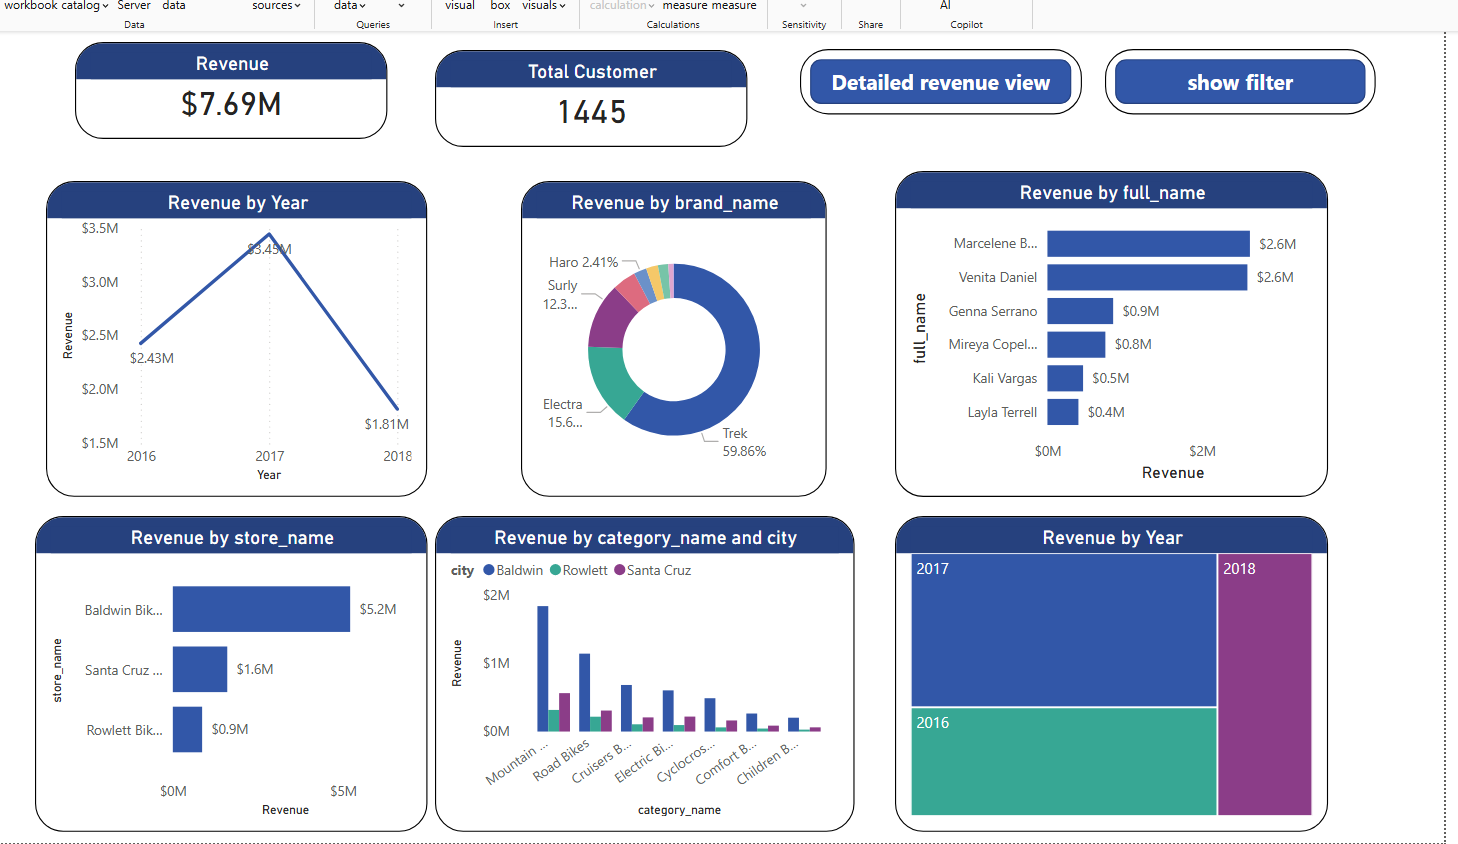

What the dashboard file says about the page in this screenshot:
{"tool":"powerbi","page":{"name":"Page 1","canvas":[1280,720],"ordinal":0},"visuals":[{"type":"barChart","fields":{"Category":["stores.store_name"],"Y":["Table.Revenue"]},"box":[31.1,429.9,348.2,280.1],"z":0},{"type":"clusteredColumnChart","fields":{"Category":["categories.category_name"],"Y":["Table.Revenue"],"Series":["stores.city"]},"box":[386.1,429.9,371.6,280.1],"z":1000},{"type":"lineChart","fields":{"Y":["Table.Revenue"],"Category":["orders.order_date.Variation.Date Hierarchy.Year","orders.order_date.Variation.Date Hierarchy.Quarter","orders.order_date.Variation.Date Hierarchy.Month","orders.order_date.Variation.Date Hierarchy.Day"]},"box":[40.9,133.3,338.5,280.1],"z":2000},{"type":"shape","box":[979.5,16.1,240.2,57.7],"z":3000},{"type":"donutChart","fields":{"Category":["brands.brand_name"],"Y":["Table.Revenue"]},"box":[462,133.3,271.4,280.1],"z":4000},{"type":"card","title":"Revenue","fields":{"Values":["Table.Revenue"]},"box":[66.1,9.7,277.2,85.6],"z":5000},{"type":"card","title":"Total Customer","fields":{"Values":["Table.total_customer"]},"box":[386.1,16.5,277.2,85.6],"z":6000},{"type":"shape","box":[709.8,16.1,249.6,57.7],"z":7000},{"type":"barChart","fields":{"Category":["staffs.full_name"],"Y":["Table.Revenue"]},"box":[793.7,124.5,384.2,288.9],"z":8000},{"type":"treemap","fields":{"Group":["orders.Year"],"Values":["Table.Revenue"]},"box":[794,430,384,280],"z":10000}]}

Visuals, with their boxes in screenshot pixels (x1, y1, x2, y2):
barChart - stores.store_name x Table.Revenue: <box>35,513,426,828</box>
clusteredColumnChart - categories.category_name x Table.Revenue: <box>434,513,851,828</box>
lineChart - Table.Revenue x orders.order_date.Variation.Date Hierarchy.Year: <box>46,180,426,495</box>
shape: <box>1100,48,1370,113</box>
donutChart - brands.brand_name x Table.Revenue: <box>519,180,824,495</box>
"Revenue" card: <box>74,41,386,137</box>
"Total Customer" card: <box>434,49,745,145</box>
shape: <box>797,48,1078,113</box>
barChart - staffs.full_name x Table.Revenue: <box>892,170,1323,495</box>
treemap - orders.Year x Table.Revenue: <box>892,513,1323,828</box>
